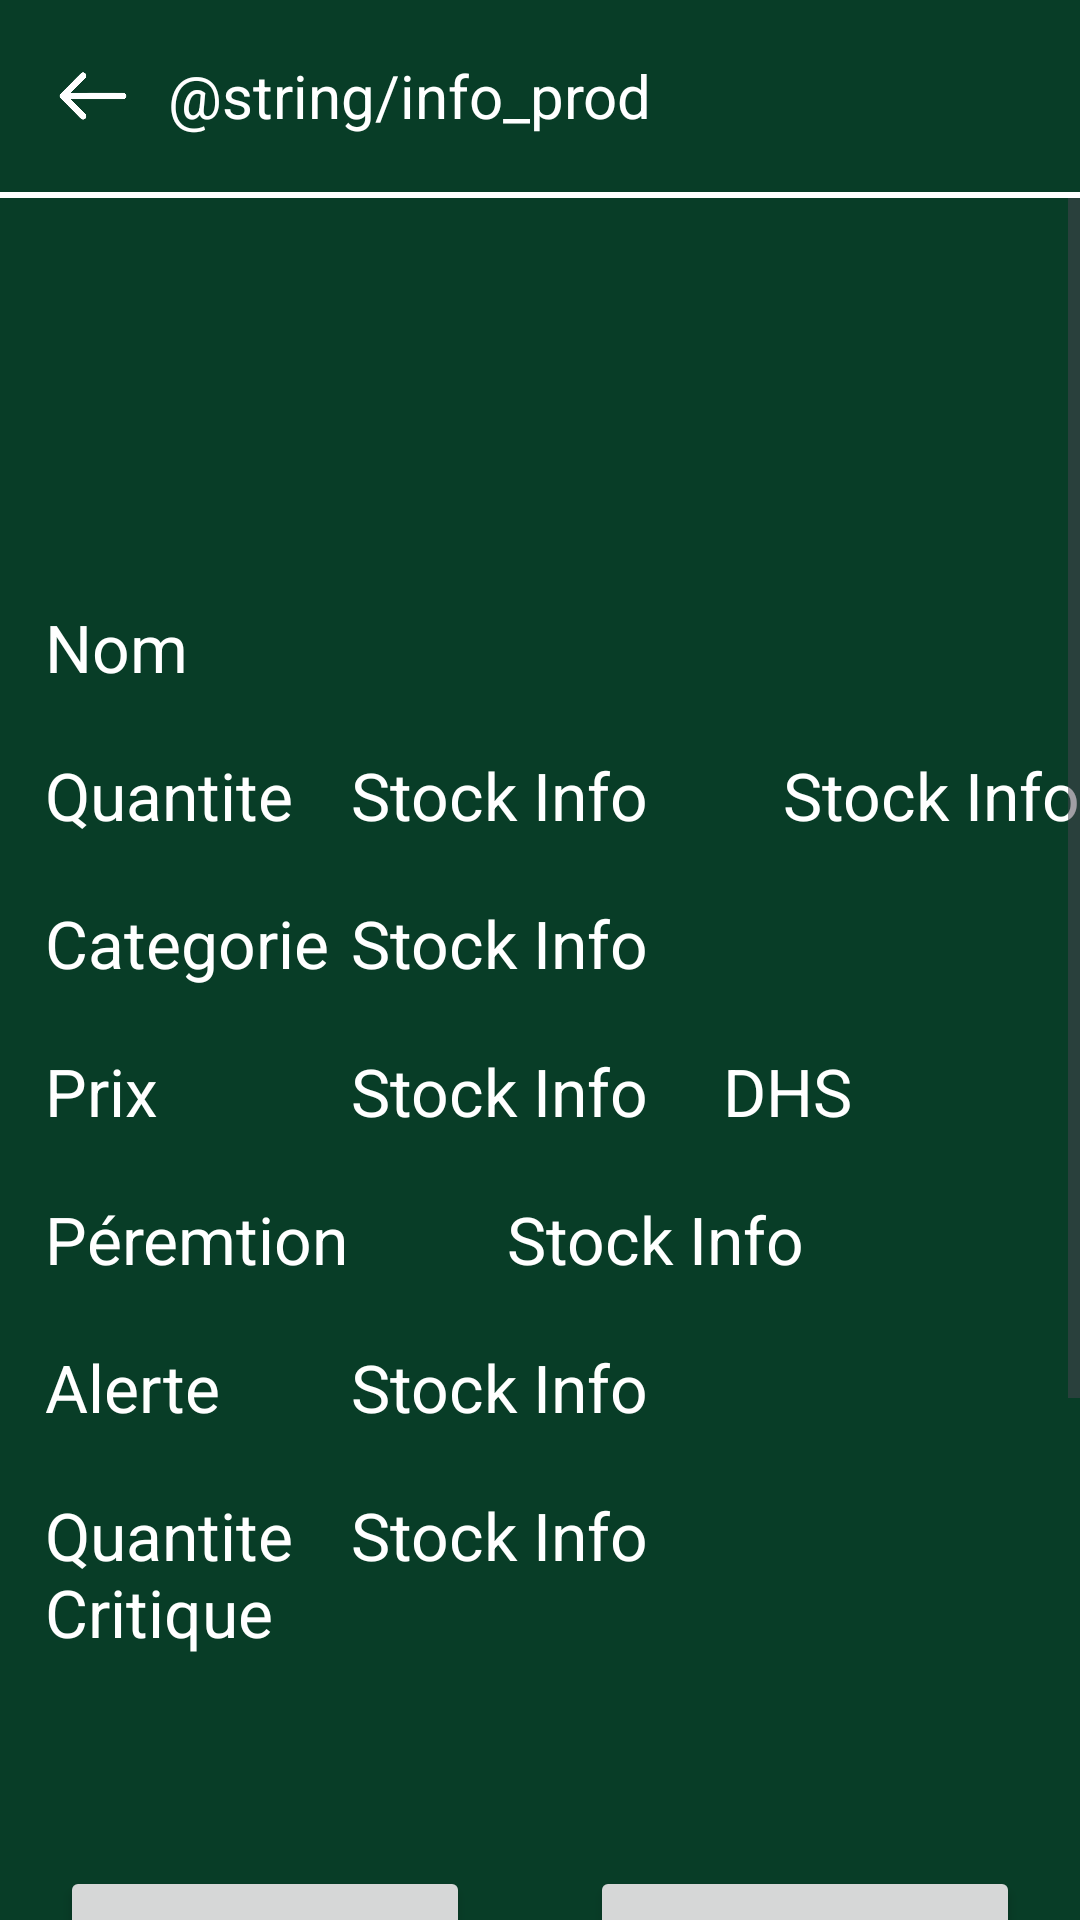

Locate icon controls on the screen. Image size 1080px×1920px, boxes as [x1=x1, y1=y1, x2=x2, y2=y2].
fleche: [x1=59, y1=72, x2=127, y2=120]
